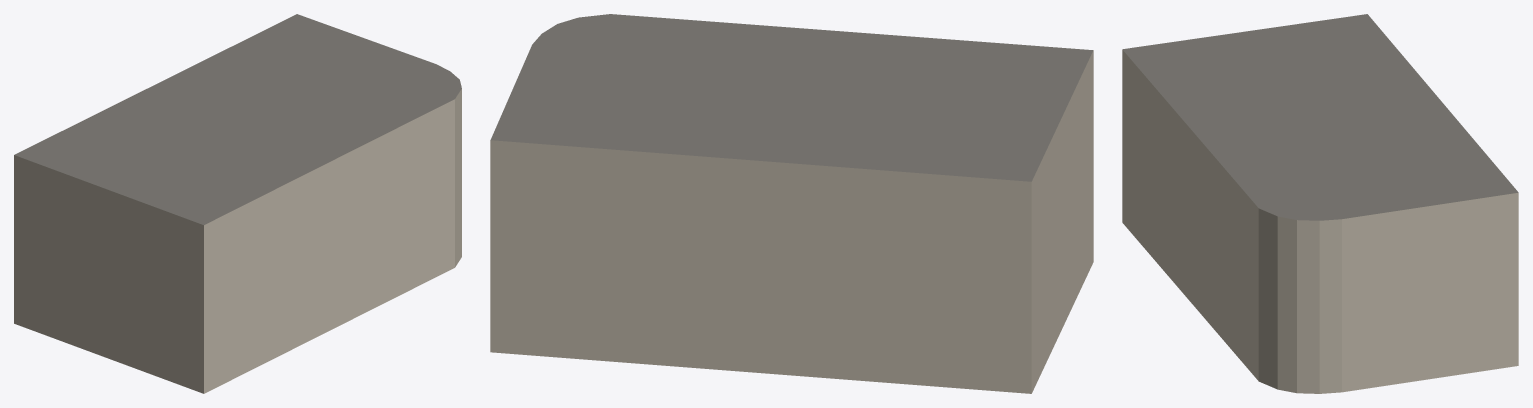
3 renders of one model, left to right at view 1: azimuth 30°, elevation 25°; view 2: azimuth 150°, elevation 25°; view 3: azimuth 270°, elevation 25°, orthographic. The views are drawn at different scales.
Visible parts, largest first — view 1: HP-w1286957268; view 2: HP-w1286957268; view 3: HP-w1286957268.
Part boxes in pixels (x1,y1,x2,y2): HP-w1286957268: [14, 14, 461, 393]; HP-w1286957268: [490, 14, 1093, 393]; HP-w1286957268: [1122, 14, 1518, 393].
Bounding box in the file's own units: 46.1 × 18 × 37.36.
